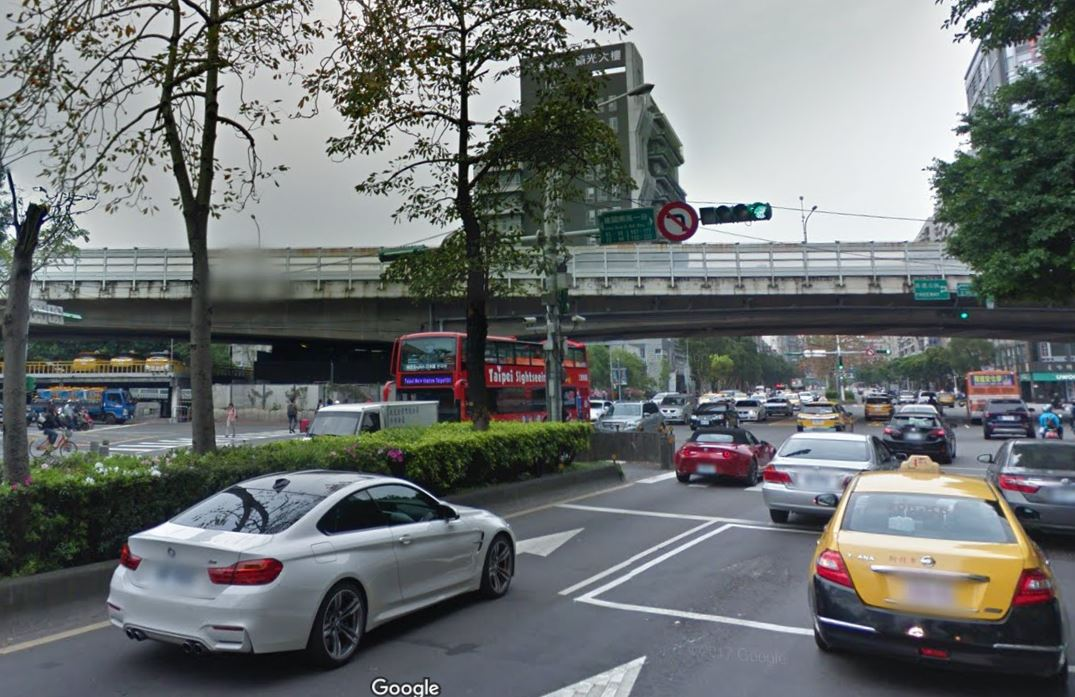No_left_turn: (657, 202, 699, 240)
Traffic_light_green: (700, 198, 772, 224)
